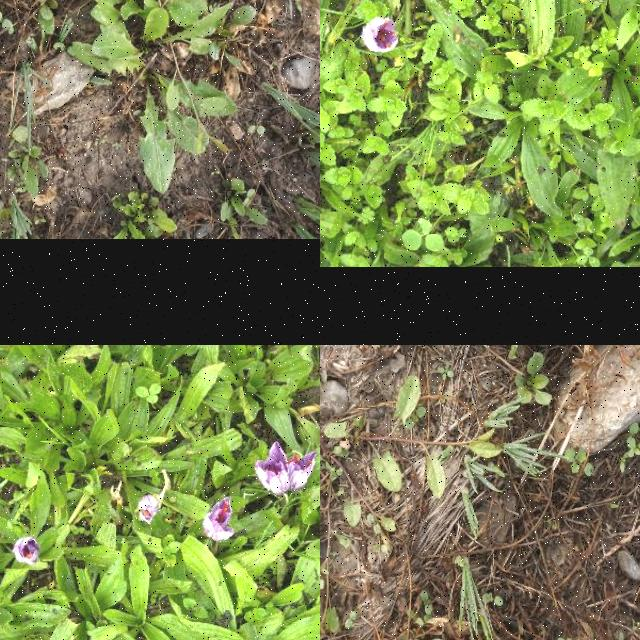flower: (256, 442, 298, 496), (203, 497, 234, 541), (288, 451, 318, 492), (363, 18, 399, 52), (136, 496, 162, 524), (13, 538, 39, 566)
